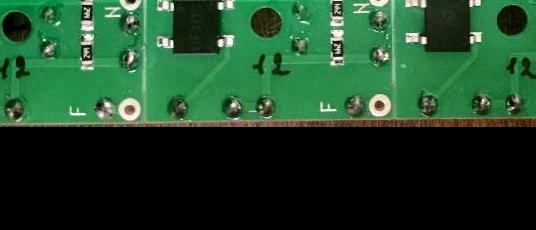chip-resistor: (328, 29, 345, 67), (79, 32, 95, 72), (79, 0, 96, 31), (330, 0, 346, 27)
ic: (155, 0, 238, 55), (404, 0, 485, 54)
